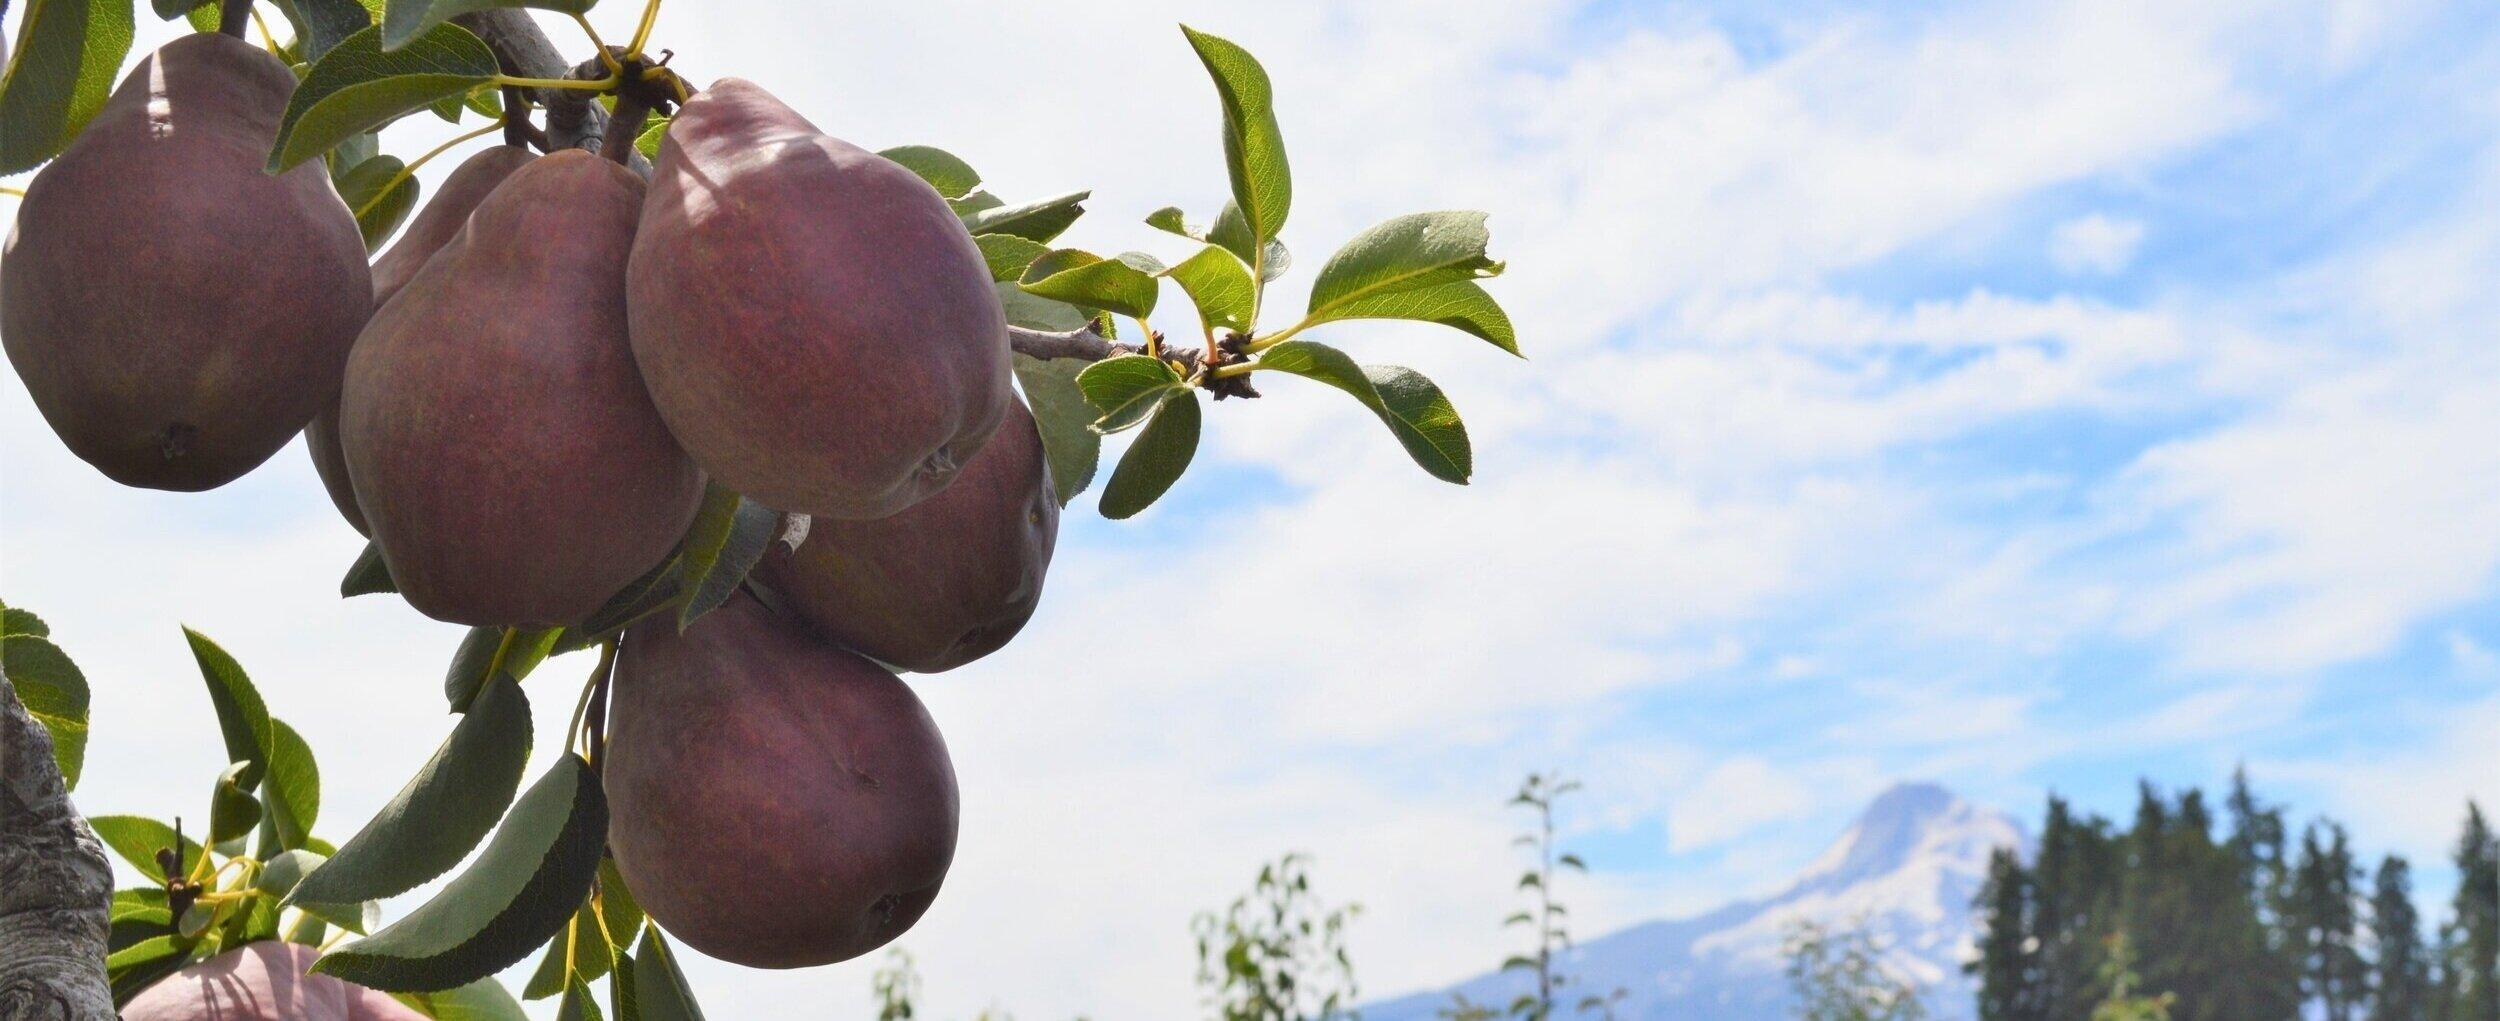apple: (622, 126, 1017, 518), (328, 247, 710, 627), (6, 97, 370, 493), (596, 609, 963, 967)
